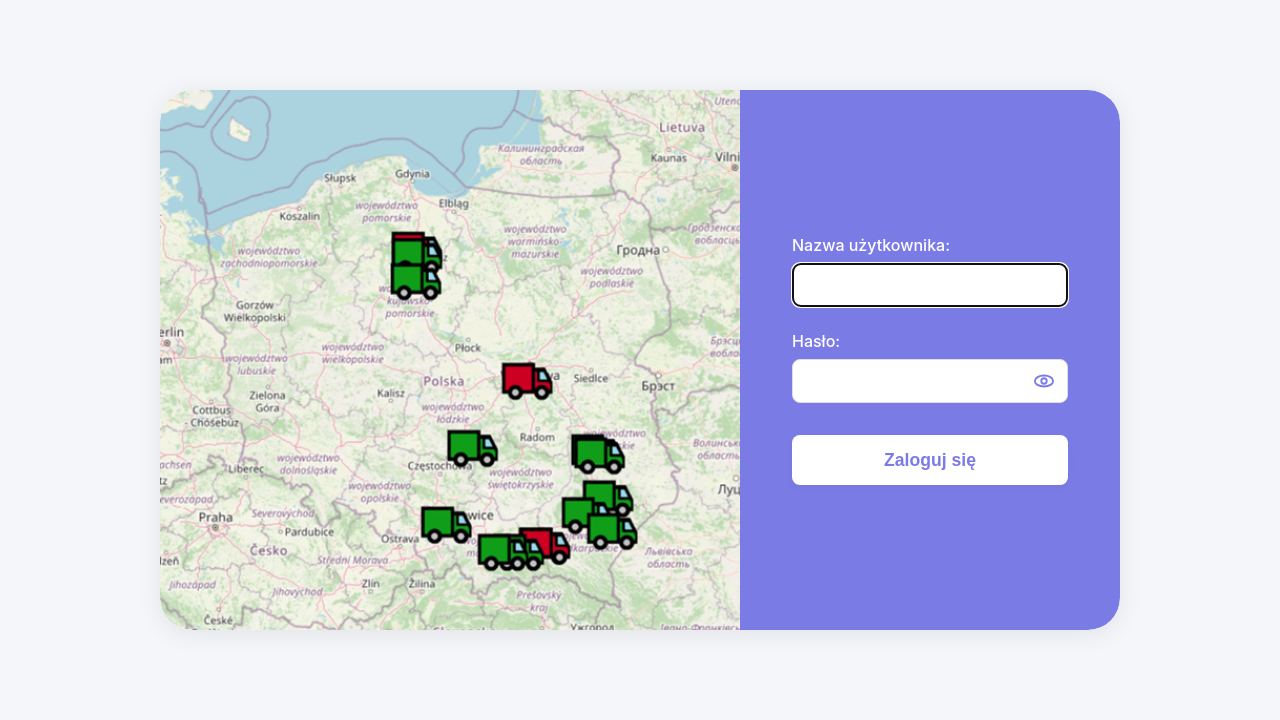
it: Login Functionality › should login with valid credentials
Type "admin" into the field.
click(930, 285); type("admin")  # box [792, 263, 1068, 307]
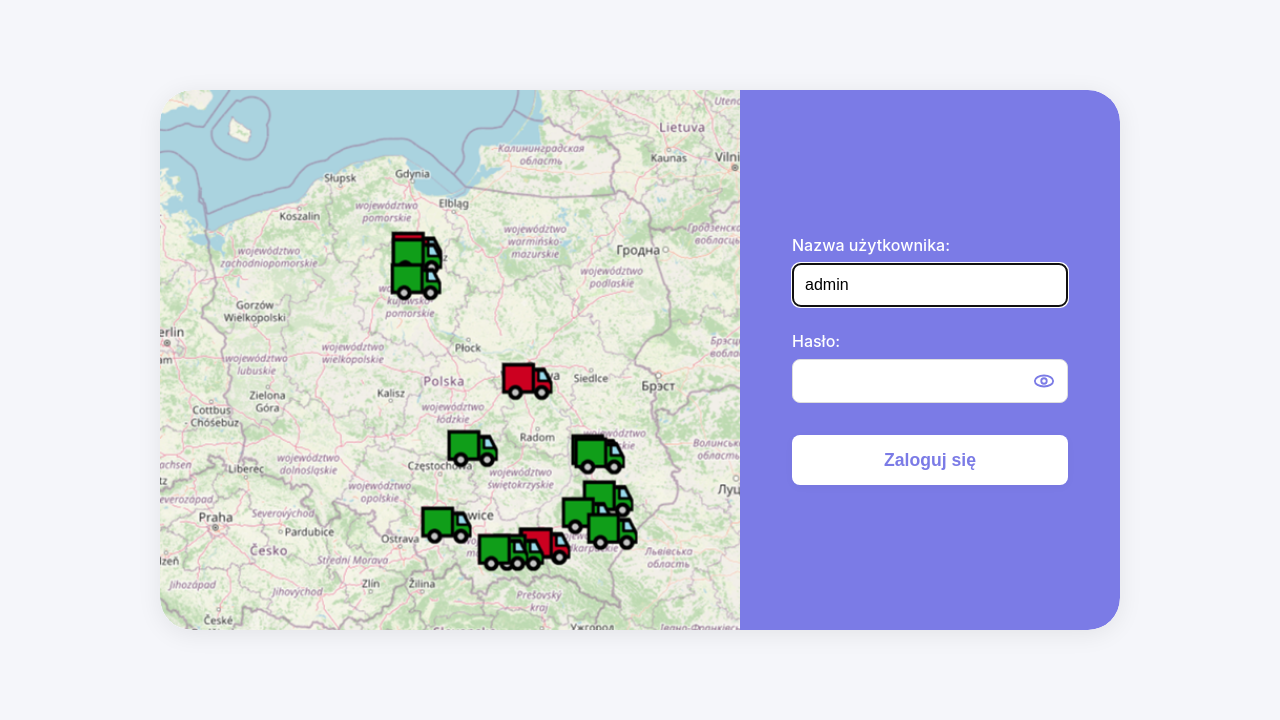
Type "admin" into the password field.
click(930, 381); type("admin")  # box [792, 359, 1068, 403]
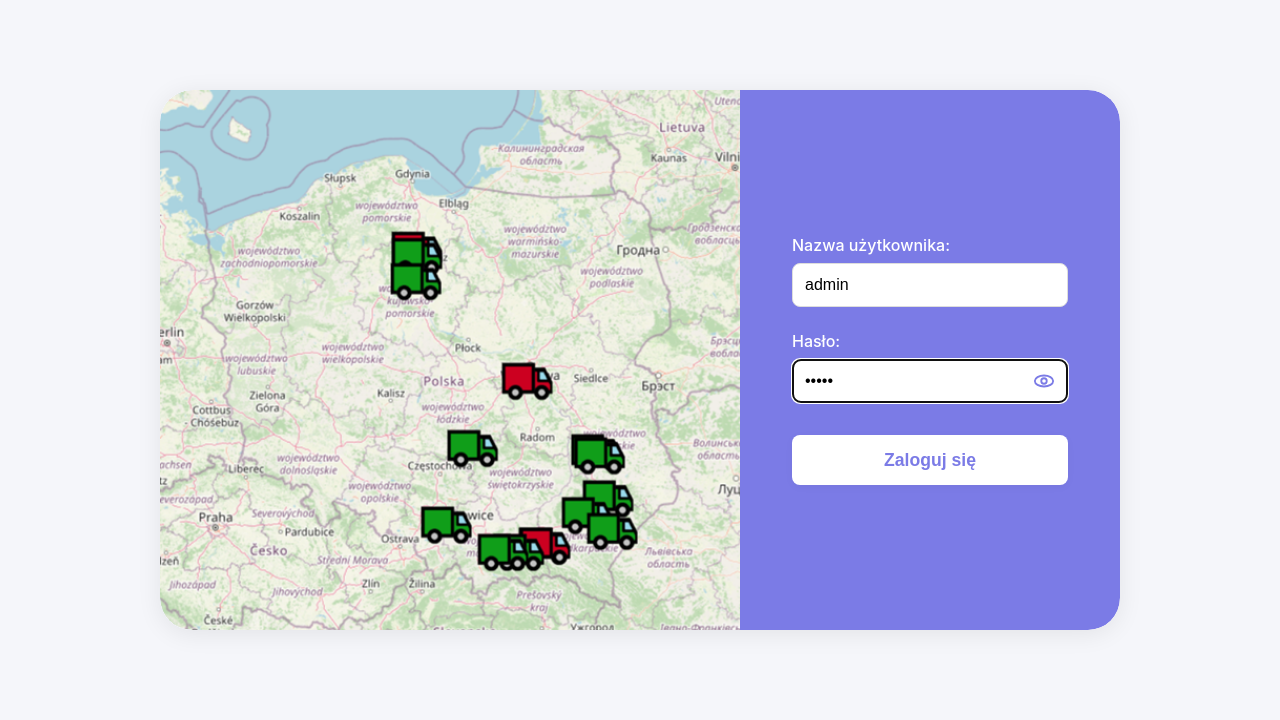
Click the submit button.
click(930, 460)  # box [792, 435, 1068, 485]
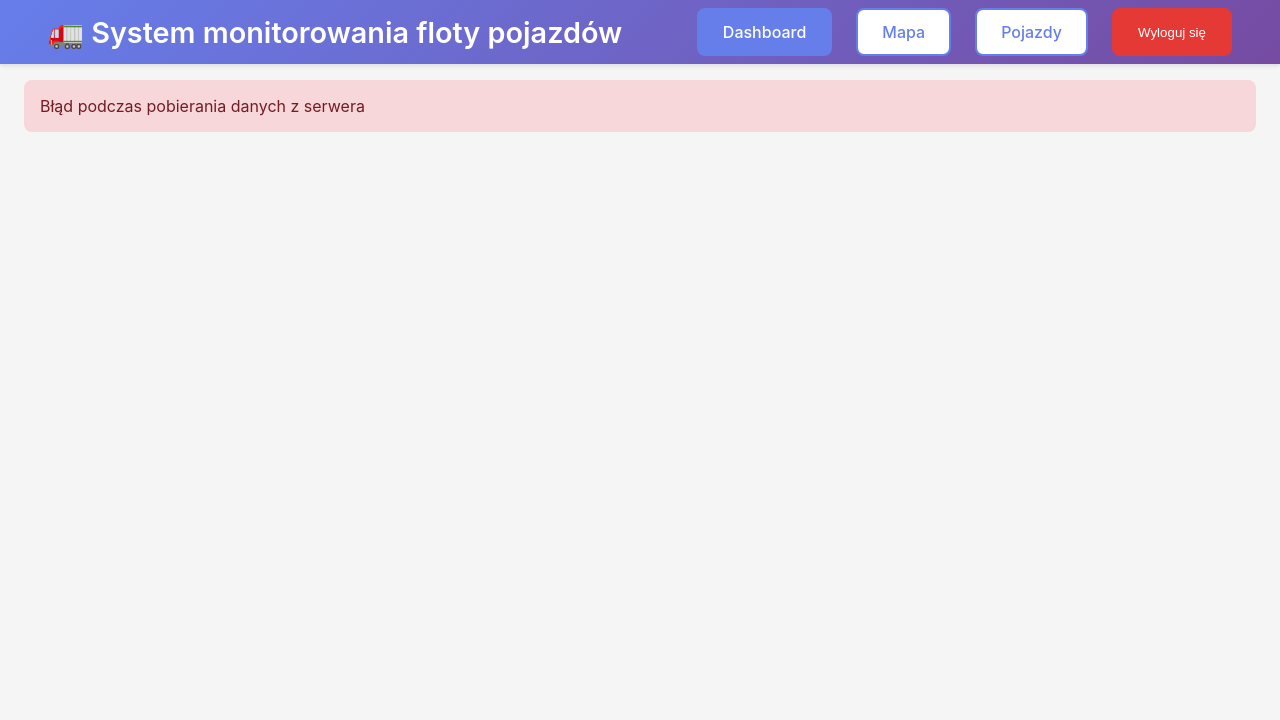
Result: the heading "🚛 System monitorowania floty pojazdów" is shown at [48, 14, 622, 50]
